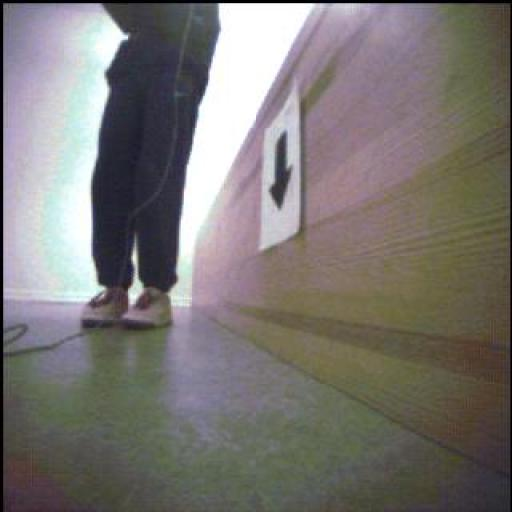Arrow: (270, 132, 294, 209)
